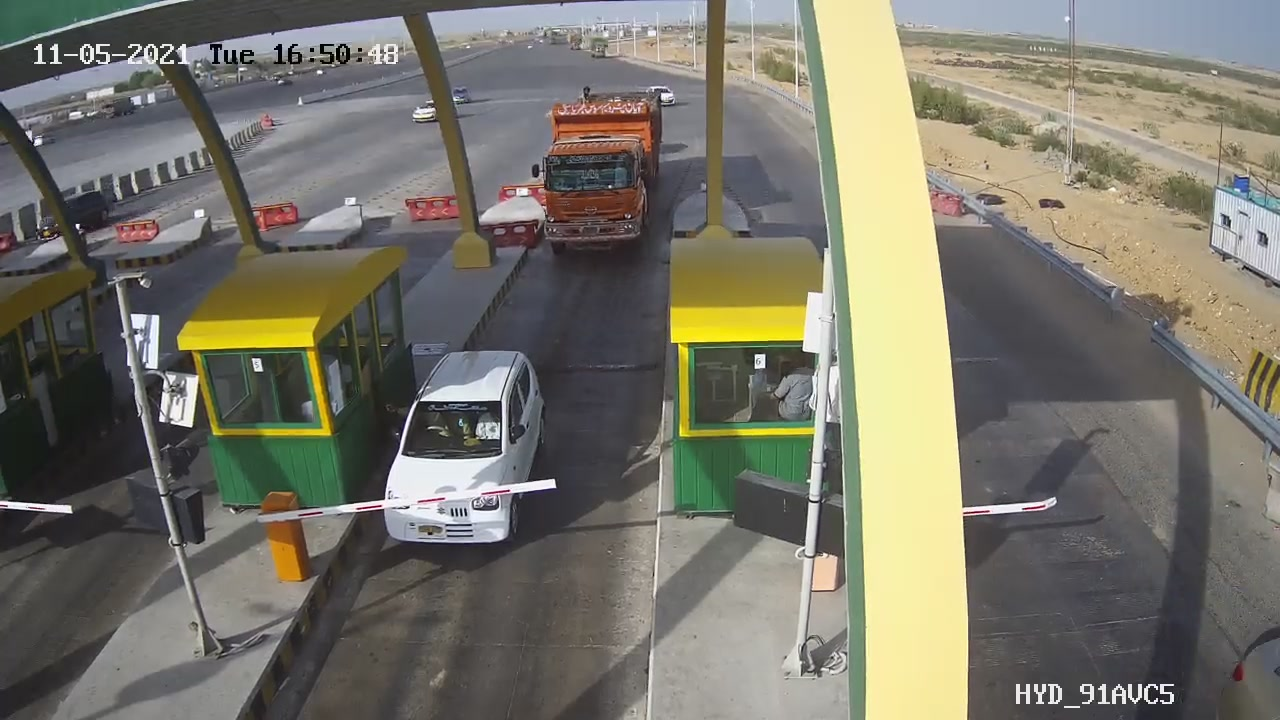F1: (362, 331, 565, 564)
